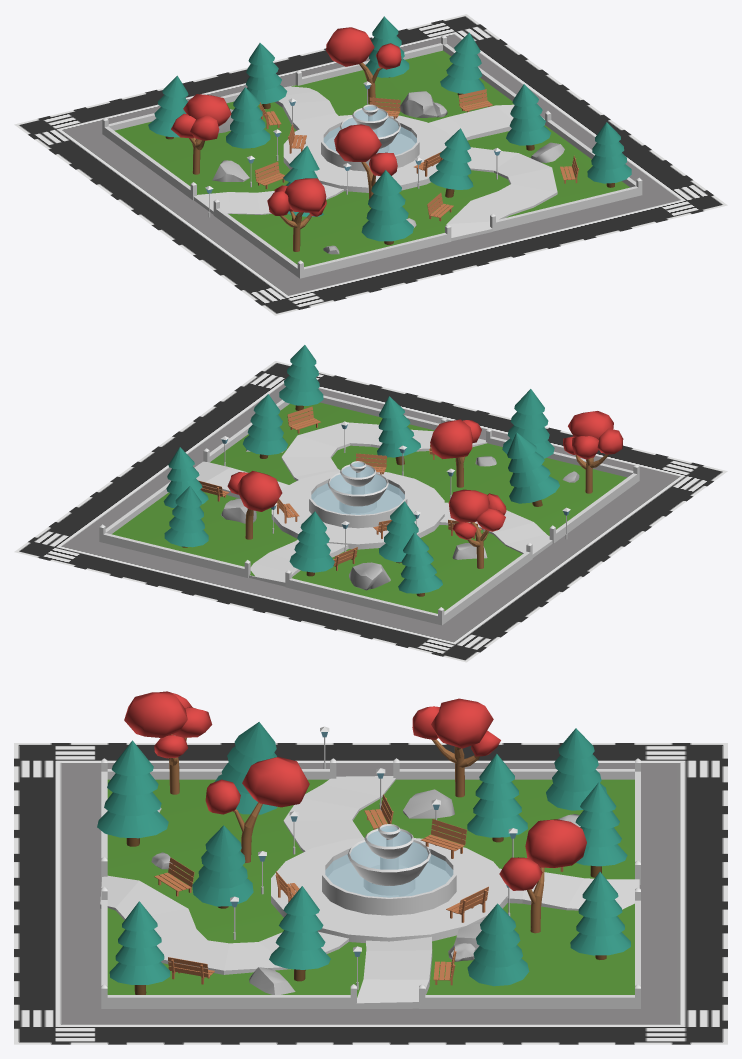
Rendered from Park_BO.fbx.
3 renders of one model, top to bottom at view 1: azimuth 30°, elevation 25°; view 2: azimuth 150°, elevation 25°; view 3: azimuth 270°, elevation 25°, orthographic. The views are drawn at different scales.
Visible parts, largest first — view 1: Box726, Box1308, Line001, Cylinder047, Line002, Cone359, Cone384, Cone381, Cone360, Cone362, Cone367, Cone365 (+19 smaller); view 2: Box726, Box1308, Line001, Cylinder047, Line002, Cone360, Cone381, Cone363, Cylinder048, Cone362, Cone384, Cone359 (+21 smaller); view 3: Box726, Box1308, Cylinder047, Line002, Line001, Cylinder048, Cone359, Cone362, Cone384, Cone381, Cone360, Box1334 (+20 smaller).
Part boxes in pixels (x1,y1,x2,y2): Box726: [14, 14, 727, 315]; Box1308: [114, 50, 629, 266]; Line001: [275, 85, 557, 241]; Cylinder047: [283, 115, 450, 192]; Line002: [193, 104, 544, 214]; Cone359: [361, 170, 413, 244]; Cone384: [326, 27, 401, 104]; Cone381: [171, 94, 231, 174]; Cone360: [267, 178, 326, 251]; Cone362: [334, 124, 397, 207]; Cone367: [587, 122, 631, 187]; Cone365: [506, 84, 550, 150]; Box726: [14, 361, 727, 662]; Box1308: [112, 402, 626, 613]; Line001: [249, 422, 487, 586]; Cylinder047: [271, 471, 444, 549]; Line002: [194, 461, 552, 557]; Cone360: [563, 411, 623, 493]; Cone381: [448, 489, 506, 568]; Cone363: [507, 432, 559, 506]; Cylinder048: [309, 477, 407, 528]; Cone362: [430, 419, 481, 487]; Cone384: [227, 471, 282, 539]; Cone359: [502, 389, 554, 458]; Box726: [14, 743, 727, 1044]; Box1308: [107, 779, 634, 997]; Cylinder047: [271, 838, 507, 943]; Line002: [283, 776, 432, 1008]; Line001: [100, 868, 639, 974]; Cylinder048: [322, 846, 456, 915]; Cone359: [97, 740, 168, 846]; Cone362: [205, 757, 309, 862]; Cone384: [499, 819, 586, 933]; Cone381: [412, 698, 500, 797]; Cone360: [124, 691, 212, 794]; Box1334: [101, 995, 354, 1008].
Bounding box in the file's own units: 1000 × 198 × 1000.
